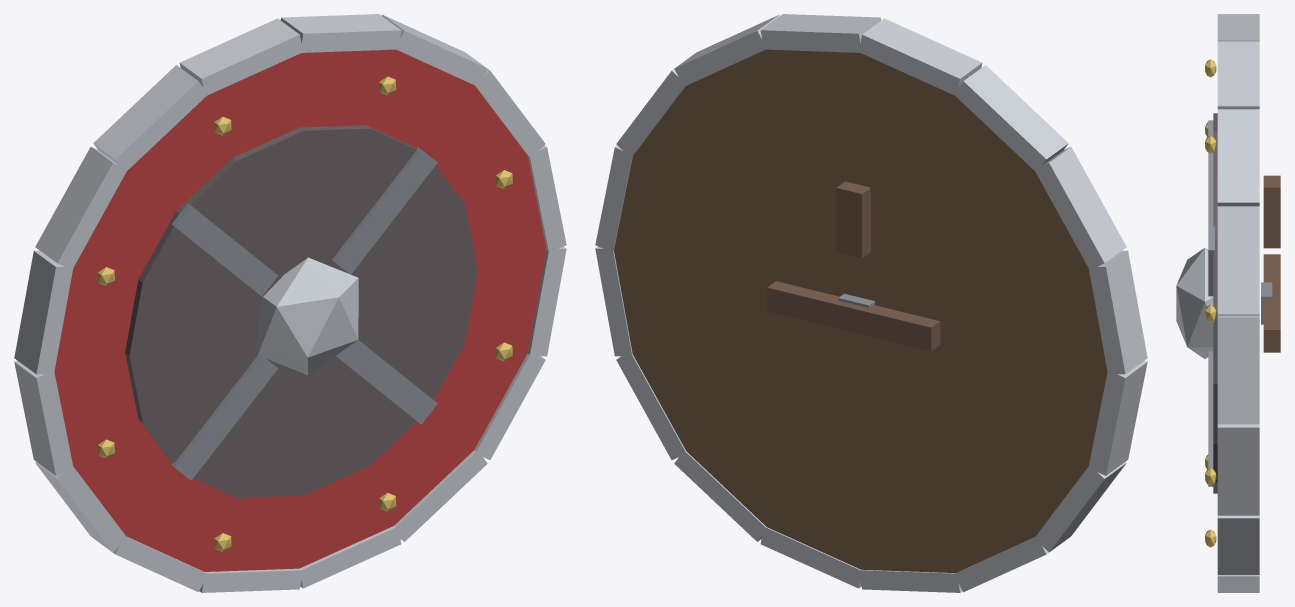
The model's file is Weapon_Shield_Round_Red.glb.
3 views of the same model, side by side, from view 1: azimuth 30°, elevation 25°; view 2: azimuth 150°, elevation 25°; view 3: azimuth 270°, elevation 25° (orthographic). The views are drawn at different scales.
Visible parts, largest first — view 1: Shield_Round_Red; view 2: Shield_Round_Red; view 3: Shield_Round_Red.
Boxes of the visible parts, x1,y1,x2,y2 form: Shield_Round_Red: (14, 14, 566, 592); Shield_Round_Red: (595, 14, 1147, 592); Shield_Round_Red: (1176, 14, 1280, 592).
Bounding box in the file's own units: 1.03 × 1.03 × 0.186.
